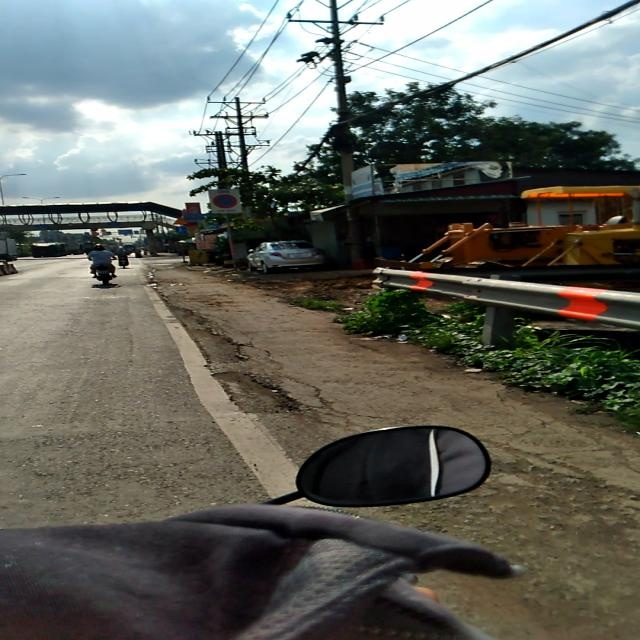bien_cam: (213, 194, 237, 209)
